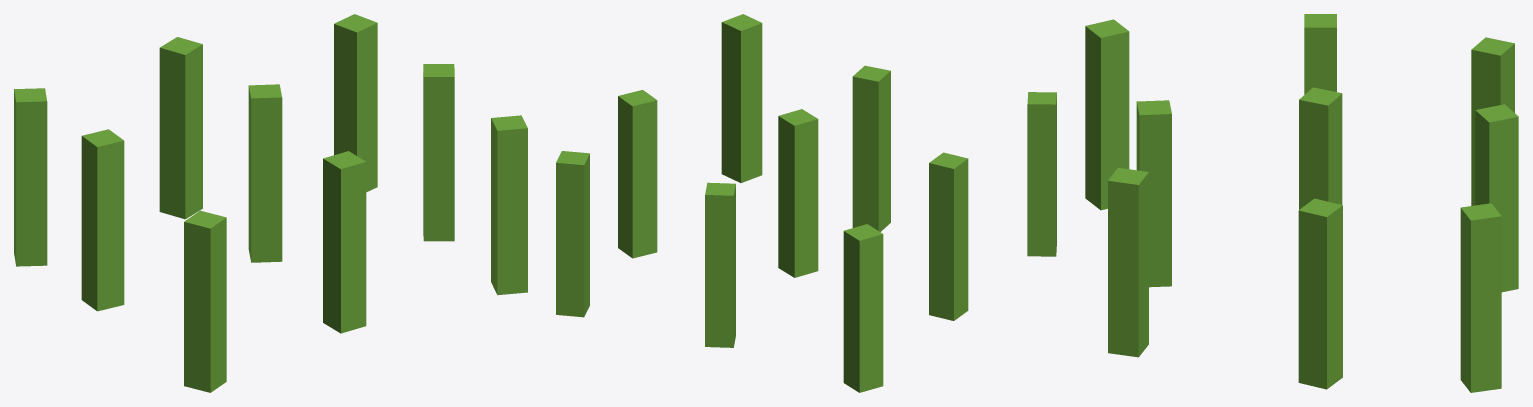
Rendered from wheat_stage_1.glb.
The picture shows the model from 3 angles, left to right: view 1: azimuth 30°, elevation 25°; view 2: azimuth 150°, elevation 25°; view 3: azimuth 270°, elevation 25°; orthographic projection. The views are drawn at different scales.
Parts seen in each view (by area): view 1: wheat.011, wheat.012, wheat.013, wheat.014, wheat.017, wheat.016, wheat.010, wheat.015, wheat.019; view 2: wheat.017, wheat.010, wheat.015, wheat.013, wheat.019, wheat.011, wheat.016, wheat.012, wheat.014; view 3: wheat.019, wheat.016, wheat.017, wheat.014, wheat.012, wheat.011, wheat.010, wheat.015, wheat.013.
Boxes of the visible parts, x1=… form: wheat.011: x1=323, y1=151, x2=366, y2=333; wheat.012: x1=159, y1=37, x2=202, y2=219; wheat.013: x1=81, y1=129, x2=124, y2=311; wheat.014: x1=184, y1=210, x2=226, y2=392; wheat.017: x1=491, y1=115, x2=527, y2=295; wheat.016: x1=334, y1=14, x2=377, y2=192; wheat.010: x1=248, y1=84, x2=282, y2=262; wheat.015: x1=14, y1=88, x2=47, y2=266; wheat.019: x1=423, y1=64, x2=454, y2=241; wheat.017: x1=721, y1=14, x2=762, y2=182; wheat.010: x1=778, y1=109, x2=818, y2=277; wheat.015: x1=843, y1=224, x2=883, y2=392; wheat.013: x1=929, y1=152, x2=968, y2=320; wheat.019: x1=618, y1=90, x2=657, y2=258; wheat.011: x1=852, y1=65, x2=890, y2=231; wheat.016: x1=556, y1=151, x2=589, y2=317; wheat.012: x1=705, y1=182, x2=735, y2=347; wheat.014: x1=1027, y1=92, x2=1056, y2=256; wheat.019: x1=1298, y1=198, x2=1342, y2=389; wheat.016: x1=1460, y1=203, x2=1501, y2=392; wheat.017: x1=1108, y1=167, x2=1148, y2=357; wheat.014: x1=1085, y1=19, x2=1129, y2=210; wheat.012: x1=1475, y1=104, x2=1518, y2=292; wheat.011: x1=1136, y1=100, x2=1171, y2=287; wheat.010: x1=1299, y1=87, x2=1342, y2=209; wheat.015: x1=1471, y1=37, x2=1514, y2=205; wheat.013: x1=1304, y1=14, x2=1336, y2=94.
Bounding box in the file's own units: 0.8289 × 0.4109 × 0.7978.
